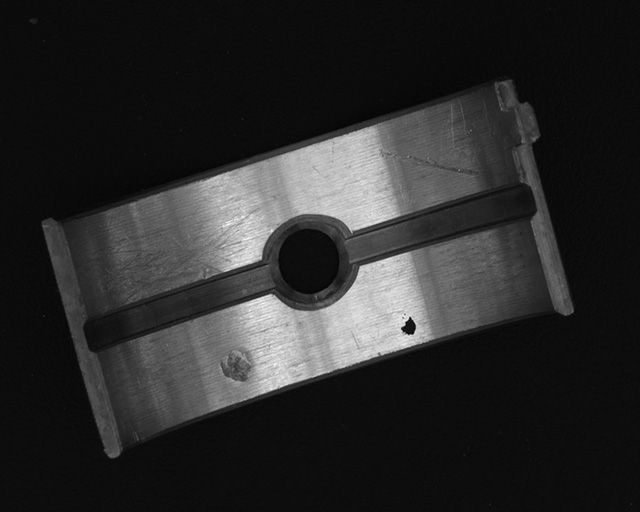blot: (400, 313, 417, 336)
bruise: (219, 346, 256, 383)
gap: (84, 262, 275, 350), (345, 183, 535, 267)
hole: (267, 219, 352, 304)
nick: (379, 149, 481, 177)
scratch: (80, 206, 262, 309)
